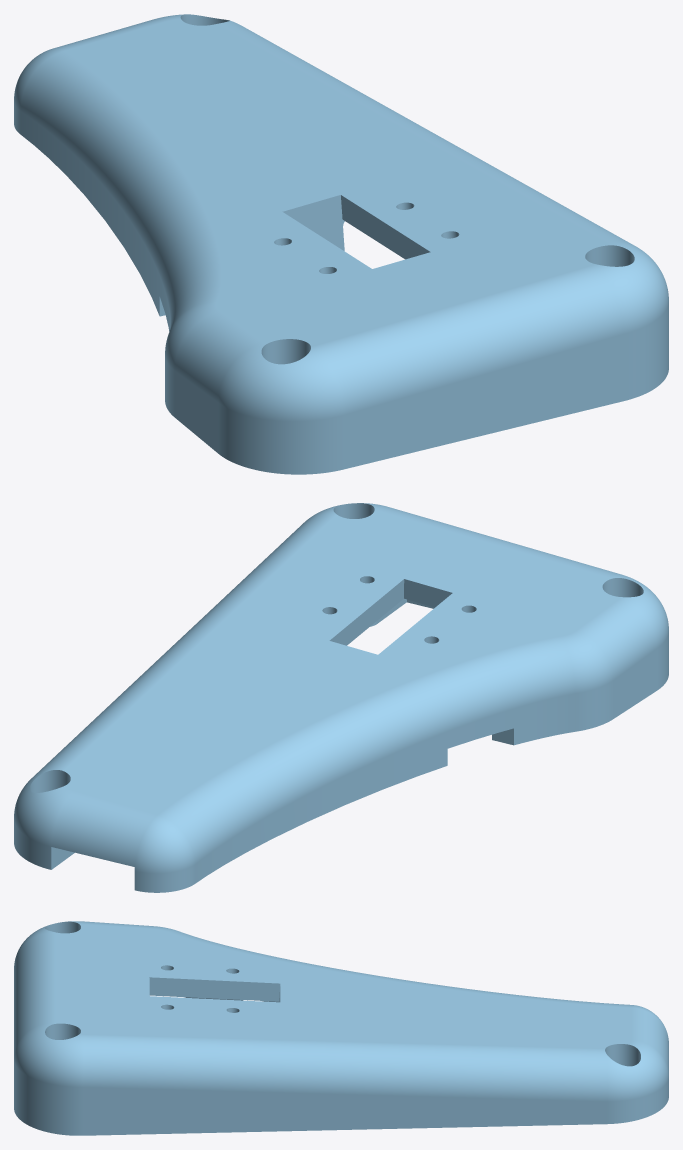
Rendered from Top_Case.obj.
The picture shows the model from 3 angles, top to bottom: view 1: azimuth 30°, elevation 25°; view 2: azimuth 150°, elevation 25°; view 3: azimuth 270°, elevation 25°; orthographic projection. The views are drawn at different scales.
Parts seen in each view (by area): view 1: mesh1, mesh15, mesh22, mesh14, mesh8, mesh17, mesh10, mesh45, mesh18, mesh9, mesh13, mesh19 (+6 smaller); view 2: mesh1, mesh22, mesh45, mesh10, mesh33, mesh18, mesh24, mesh11, mesh20, mesh15, mesh19, mesh21 (+7 smaller); view 3: mesh1, mesh10, mesh12, mesh15, mesh13, mesh9, mesh11, mesh4, mesh22, mesh16, mesh33, mesh23 (+2 smaller).
Boxes of the visible parts, box(x1,y1,x2,y2) form: mesh1: box(65, 19, 607, 346); mesh15: box(313, 265, 623, 415); mesh22: box(20, 51, 221, 328); mesh14: box(343, 334, 623, 469); mesh8: box(218, 343, 343, 421); mesh17: box(218, 403, 343, 474); mesh10: box(214, 22, 632, 244); mesh45: box(20, 112, 170, 331); mesh18: box(175, 311, 262, 402); mesh9: box(594, 241, 668, 333); mesh13: box(624, 303, 668, 400); mesh19: box(175, 371, 218, 453); mesh1: box(64, 510, 621, 814); mesh22: box(158, 636, 575, 863); mesh45: box(195, 693, 575, 883); mesh10: box(34, 515, 334, 775); mesh33: box(51, 791, 157, 866); mesh18: box(576, 599, 656, 680); mesh24: box(134, 815, 195, 873); mesh11: box(14, 770, 73, 846); mesh20: box(561, 631, 613, 693); mesh15: box(377, 506, 619, 578); mesh19: box(613, 649, 656, 718); mesh21: box(576, 681, 613, 731); mesh1: box(55, 924, 631, 1048); mesh10: box(83, 1034, 607, 1101); mesh12: box(83, 1087, 606, 1135); mesh15: box(14, 933, 55, 1055); mesh13: box(14, 1061, 82, 1135); mesh9: box(14, 1023, 83, 1087); mesh11: box(607, 1040, 668, 1101); mesh4: box(149, 977, 280, 1001); mesh22: box(168, 930, 631, 1007); mesh16: box(607, 1078, 668, 1124); mesh33: box(631, 1008, 668, 1072); mesh23: box(605, 1044, 640, 1066).
Size of the model in its own units: 0.0559 by 0.019 by 0.1.
